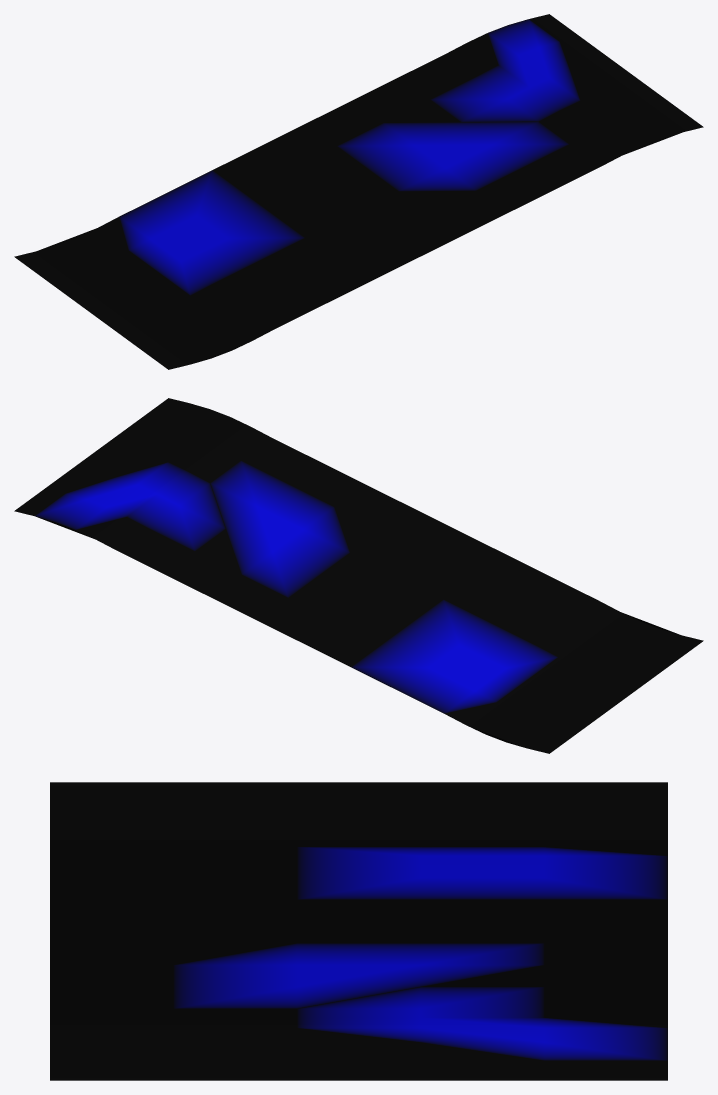
File: Ground_Ramp_0.fbx
3 views of the same model, one above another, from view 1: azimuth 30°, elevation 25°; view 2: azimuth 150°, elevation 25°; view 3: azimuth 270°, elevation 25° (orthographic). The views are drawn at different scales.
Visible parts, largest first — view 1: Ground_Ramp_0; view 2: Ground_Ramp_0; view 3: Ground_Ramp_0.
Boxes of the visible parts, x1,y1,x2,y2 form: Ground_Ramp_0: [14, 14, 703, 369]; Ground_Ramp_0: [14, 398, 703, 753]; Ground_Ramp_0: [50, 782, 667, 1080].
Bounding box in the file's own units: 0.1 × 0.02 × 0.05.
